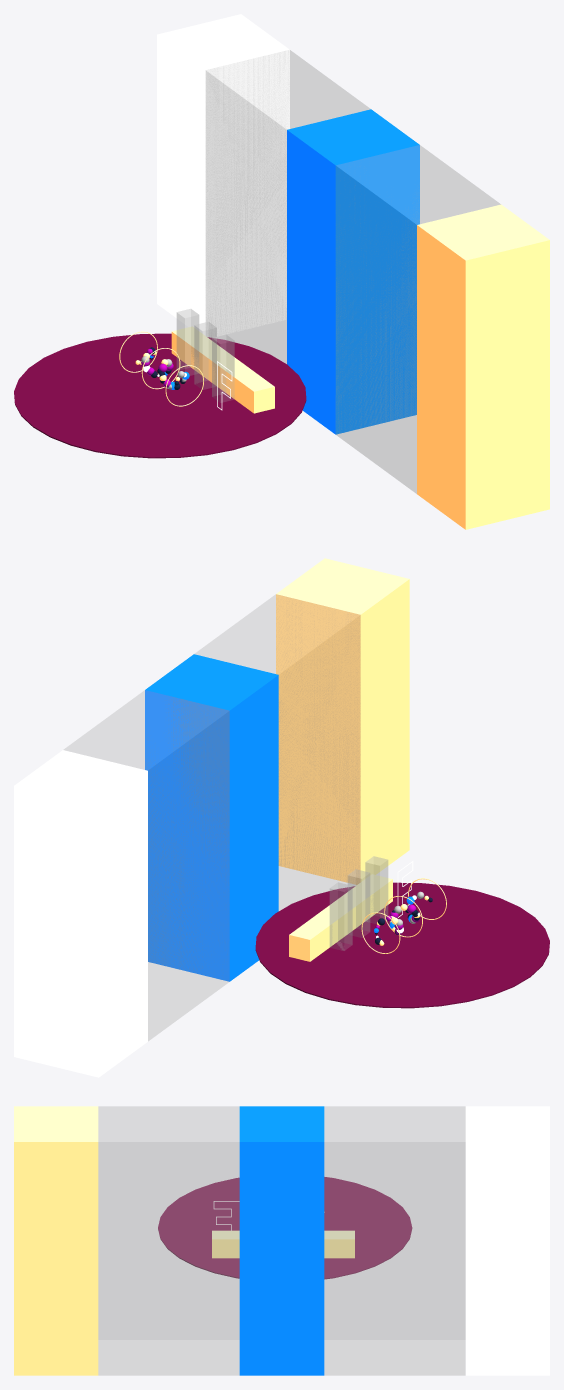
File: good_5.gltf
3 views of the same model, one above another, from view 1: azimuth 30°, elevation 25°; view 2: azimuth 150°, elevation 25°; view 3: azimuth 270°, elevation 25° (orthographic). The views are drawn at different scales.
Visible parts, largest first — view 1: Cube.003, Cube.006, Cube.004, Cube.007, Cube.005, Cylinder, Cube, Cube.001, Cube.008, Cube.002; view 2: Cube.006, Cube.003, Cube.004, Cube.005, Cube.007, Cylinder, Cube, Cube.002, Cube.008, Cube.001; view 3: Cube.005, Cube.007, Cube.004, Cube.006, Cube.003, Cylinder, Cube.
Boxes of the visible parts, x1,y1,x2,y2 form: Cube.003: (417,204,549,529); Cube.006: (157,14,289,337); Cube.004: (287,109,419,434); Cube.007: (336,145,500,493); Cube.005: (206,50,370,363); Cylinder: (14,333,306,458); Cube: (171,326,274,413); Cube.001: (194,322,216,389); Cube.008: (212,335,234,402); Cube.002: (177,309,198,375); Cube.006: (14,750,147,1077); Cube.003: (276,558,409,884); Cube.004: (145,654,278,981); Cube.005: (64,690,229,1040); Cube.007: (195,594,360,910); Cylinder: (255,882,549,1008); Cube: (289,874,392,961); Cube.002: (330,882,352,950); Cube.008: (365,856,387,923); Cube.001: (348,869,369,937); Cube.005: (324,1106,465,1375); Cube.007: (98,1106,239,1375); Cube.004: (239,1106,324,1375); Cube.006: (465,1106,549,1375); Cube.003: (14,1106,98,1375); Cylinder: (158,1177,412,1279); Cube: (212,1230,354,1258).
Bounding box in the file's own units: 156 × 111 × 231.
